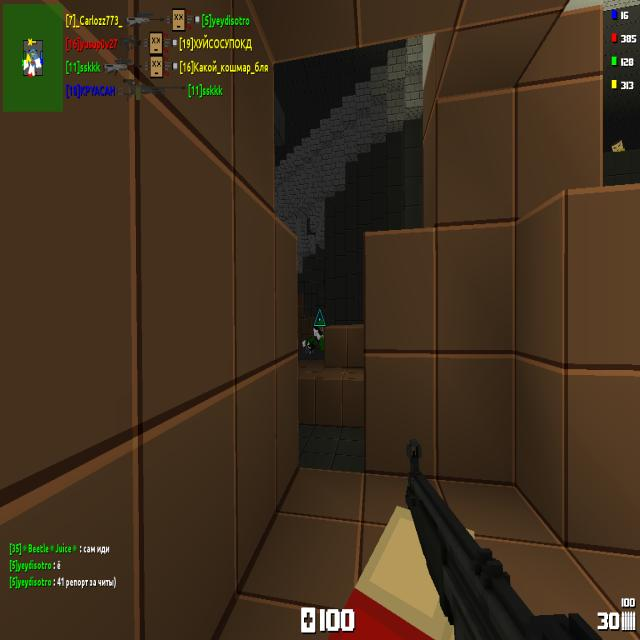enemy: (317, 320, 324, 352)
